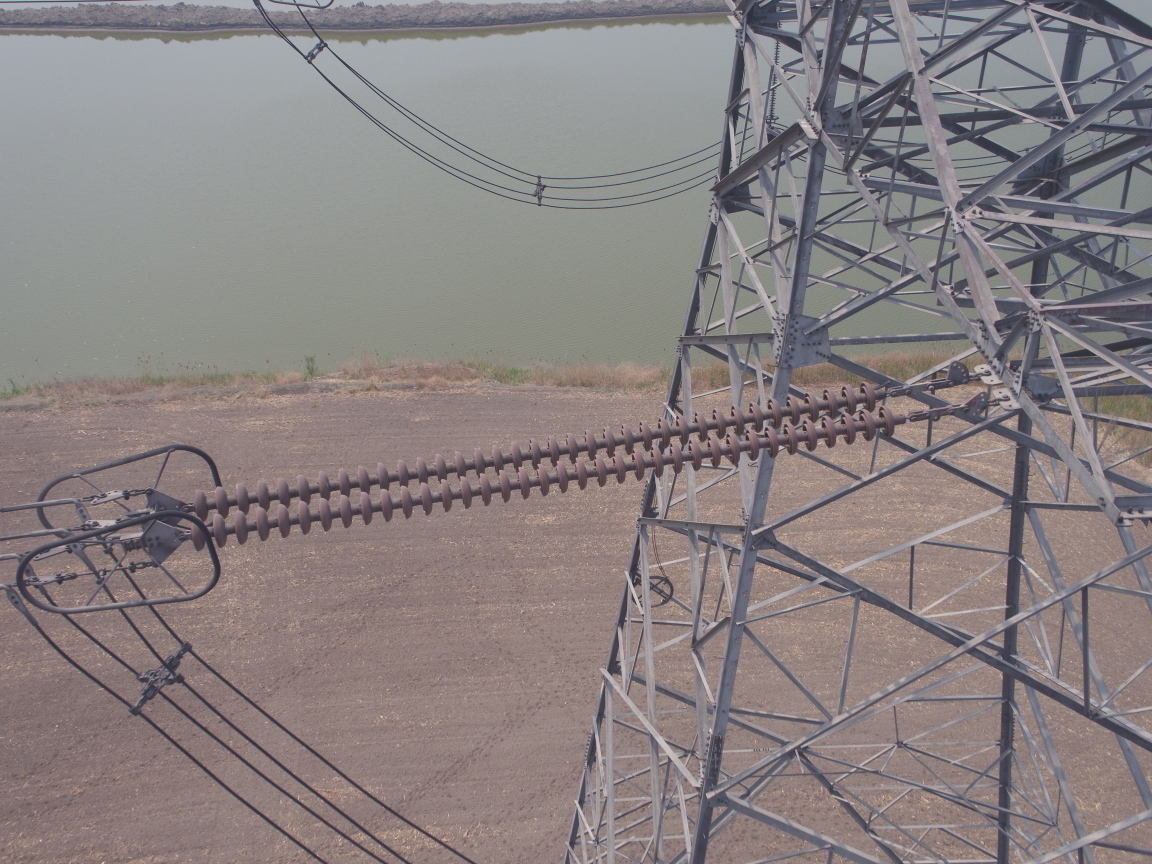insulator: (165, 376, 936, 555)
